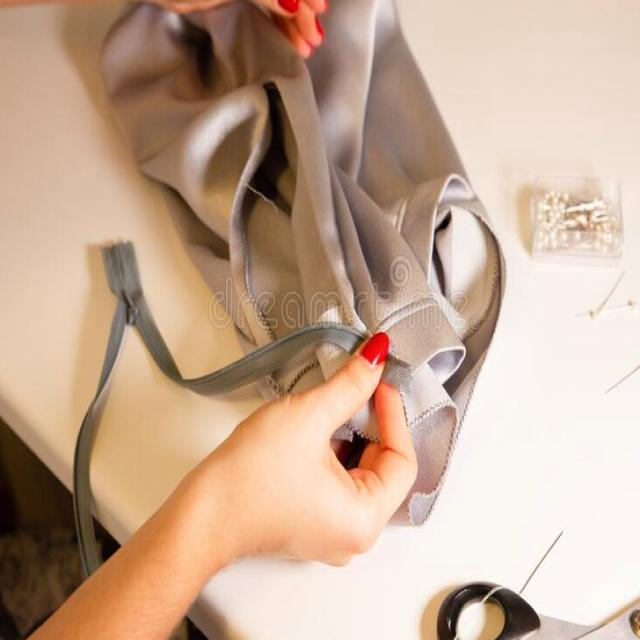clothes: (126, 49, 469, 344)
